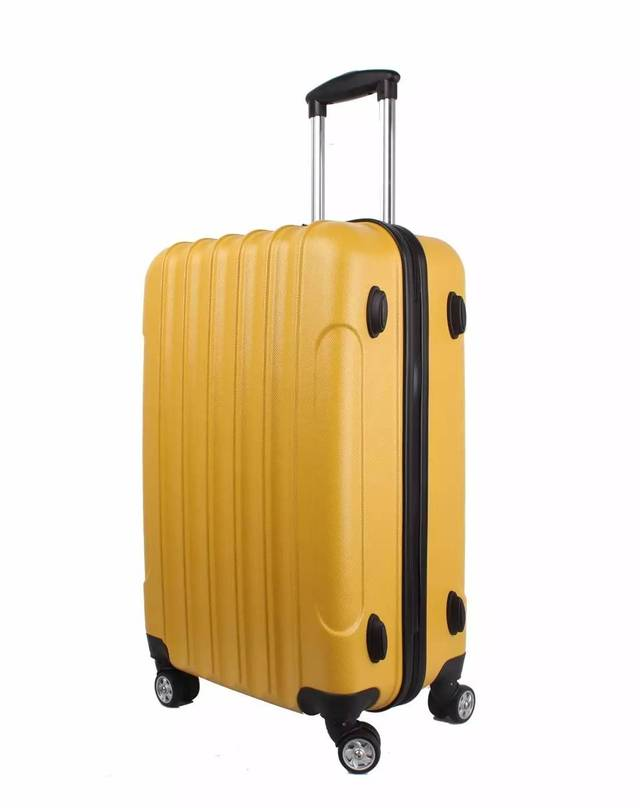luggage: (141, 67, 478, 776)
